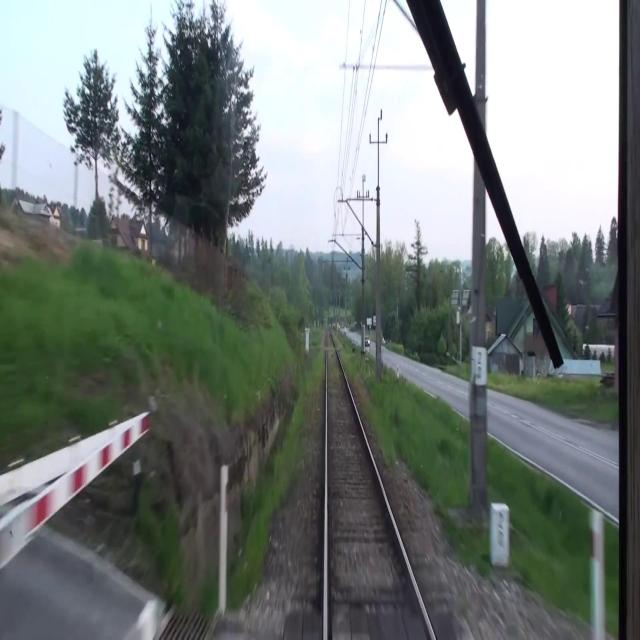rail-track: (328, 329, 431, 639)
